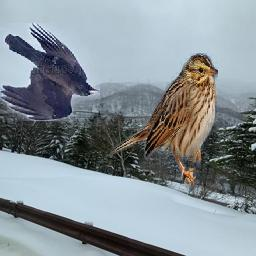Crow: (0, 23, 100, 121)
Sparrow: (110, 53, 218, 191)
